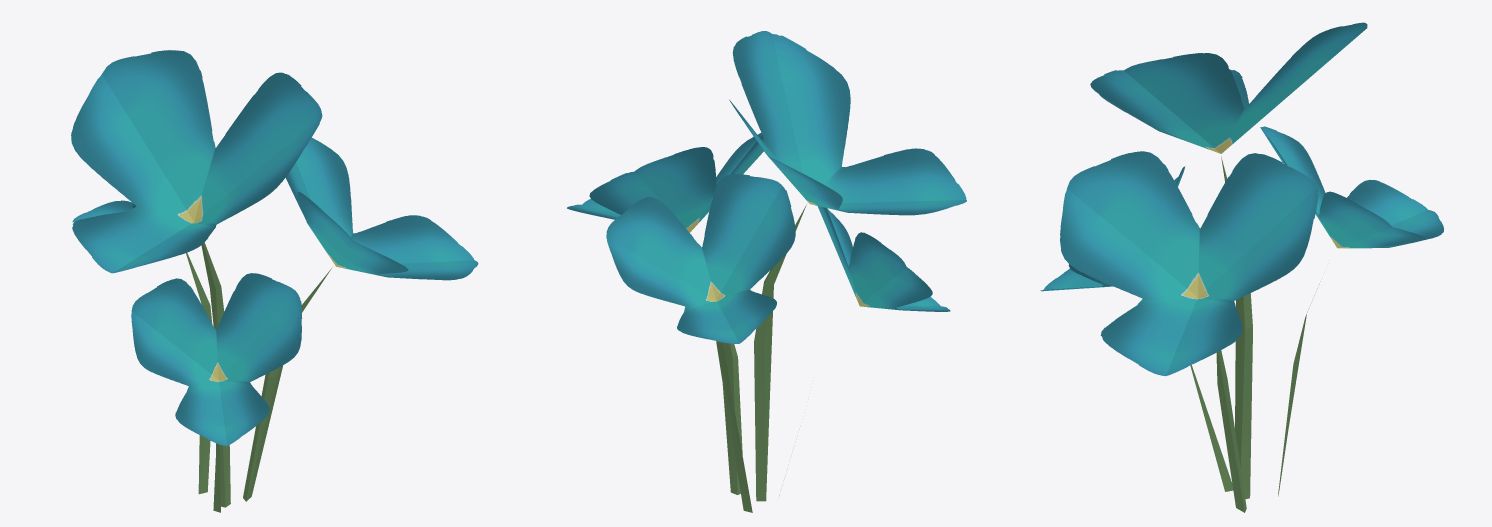
File: Flower_3_Clump.glb
3 views of the same model, side by side, from view 1: azimuth 30°, elevation 25°; view 2: azimuth 150°, elevation 25°; view 3: azimuth 270°, elevation 25° (orthographic). The views are drawn at different scales.
Size of the model in its own units: 0.426 by 0.4508 by 0.3735.
Materials: 1 (1 with a texture image).
